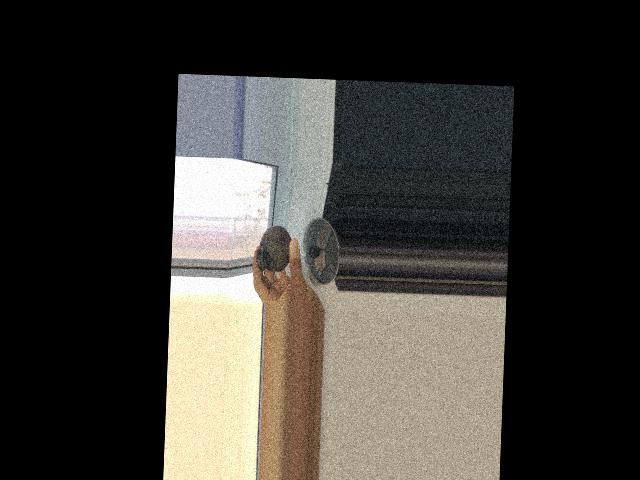beet: (255, 224, 292, 285)
